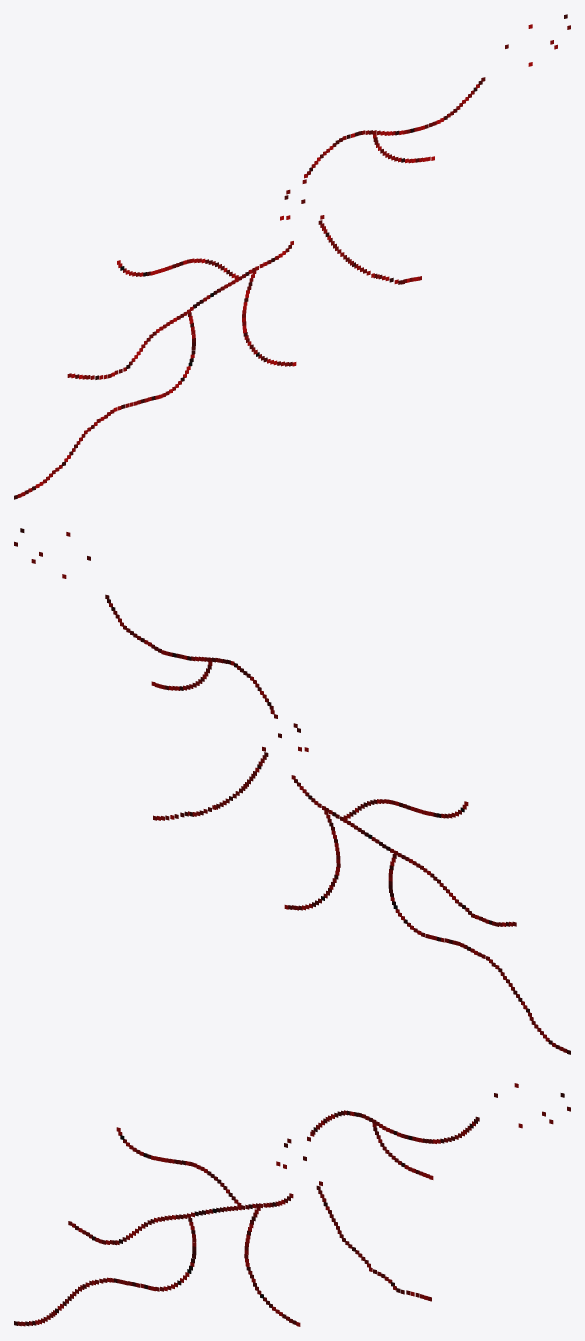
Rendered from SM_LightTrail_01.glb.
The picture shows the model from 3 angles, top to bottom: view 1: azimuth 30°, elevation 25°; view 2: azimuth 150°, elevation 25°; view 3: azimuth 330°, elevation 25°; orthographic projection. The views are drawn at different scales.
Parts seen in each view (by area): view 1: SM_LightTrail_01; view 2: SM_LightTrail_01; view 3: SM_LightTrail_01.
Boxes of the visible parts, left/top/right/bottom form: SM_LightTrail_01: left=14, top=14, right=570, bottom=499; SM_LightTrail_01: left=14, top=528, right=570, bottom=1054; SM_LightTrail_01: left=14, top=1083, right=570, bottom=1326.
Size of the model in its own units: 2.37 by 1.52 by 0.132.
